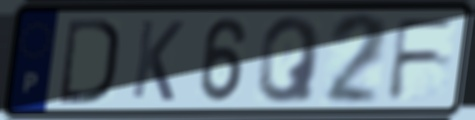2: (323, 10, 390, 108)
6: (198, 16, 250, 105)
D: (57, 16, 121, 107)
F: (384, 15, 459, 104)
K: (128, 17, 187, 104)
Q: (254, 14, 324, 106)
